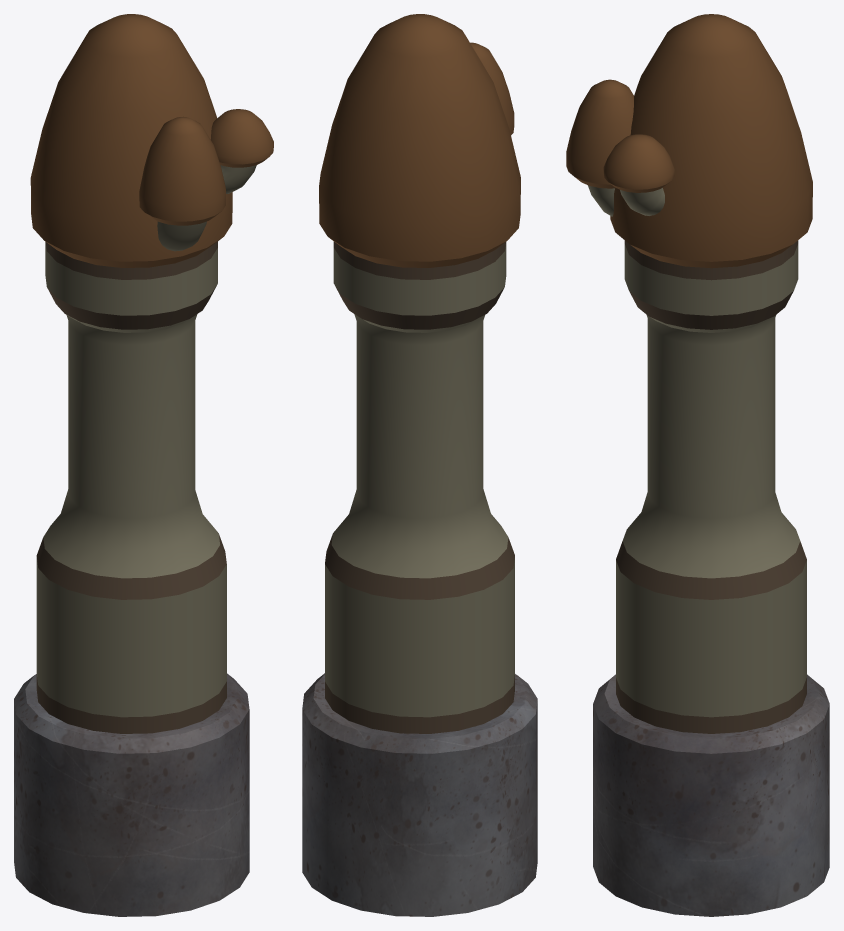
Rendered from HeistTower01.fbx.
3 renders of one model, left to right at view 1: azimuth 30°, elevation 25°; view 2: azimuth 150°, elevation 25°; view 3: azimuth 270°, elevation 25°, orthographic.
Visible parts, largest first — view 1: HeistTower01; view 2: HeistTower01; view 3: HeistTower01.
Boxes of the visible parts, left/top/right/bottom form: HeistTower01: left=14, top=14, right=273, bottom=916; HeistTower01: left=302, top=14, right=537, bottom=916; HeistTower01: left=566, top=14, right=829, bottom=916.
Size of the model in its own units: 7.43 by 29.38 by 8.27.
Materials: 4 (1 with a texture image).
